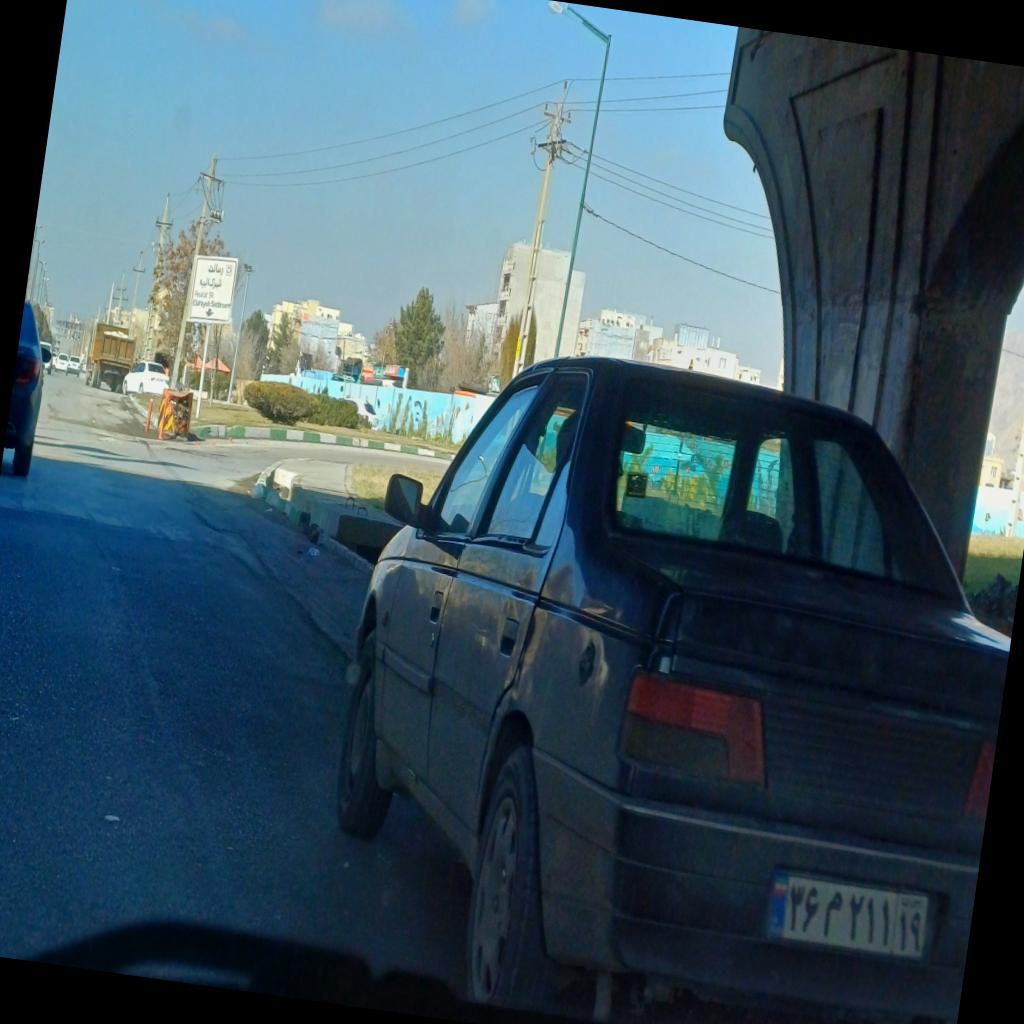Plates: (764, 868, 932, 960)
